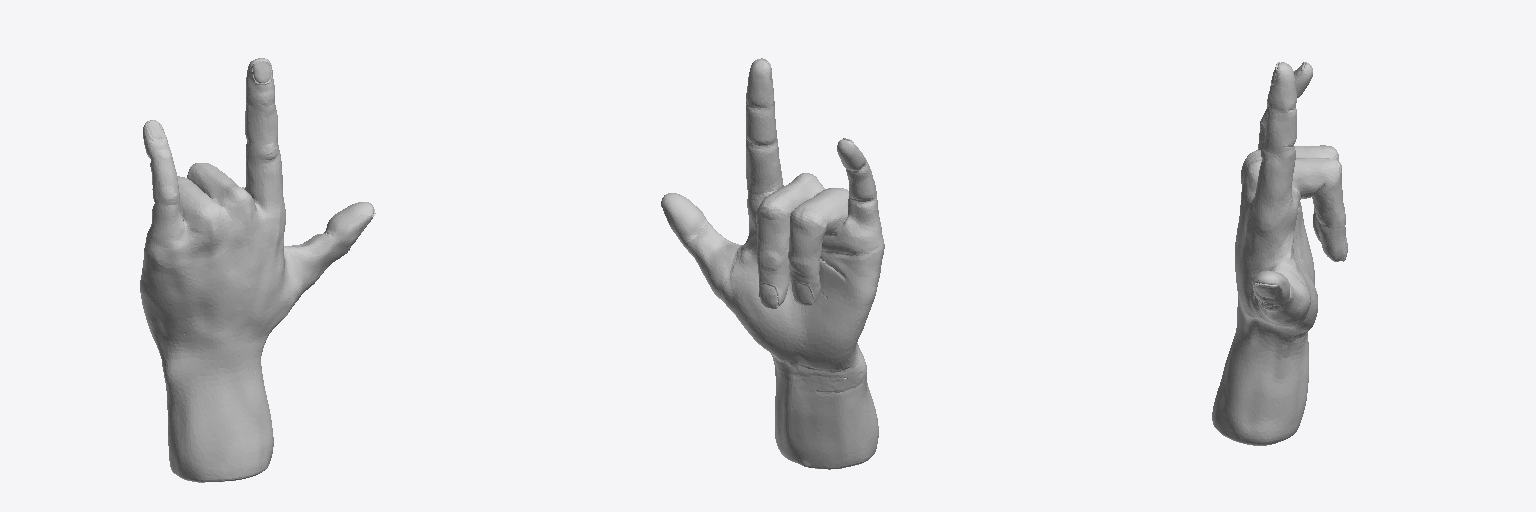
File: handobj2.obj
The picture shows the model from 3 angles: view 1: azimuth 30°, elevation 25°; view 2: azimuth 150°, elevation 25°; view 3: azimuth 270°, elevation 25°; orthographic projection.
Parts seen in each view (by area): view 1: hand; view 2: hand; view 3: hand.
Boxes of the visible parts, <box> form: hand: <box>140,58,375,482</box>; hand: <box>661,58,884,469</box>; hand: <box>1212,62,1347,445</box>.
Bounding box in the file's own units: 2.71 × 4.53 × 1.43.